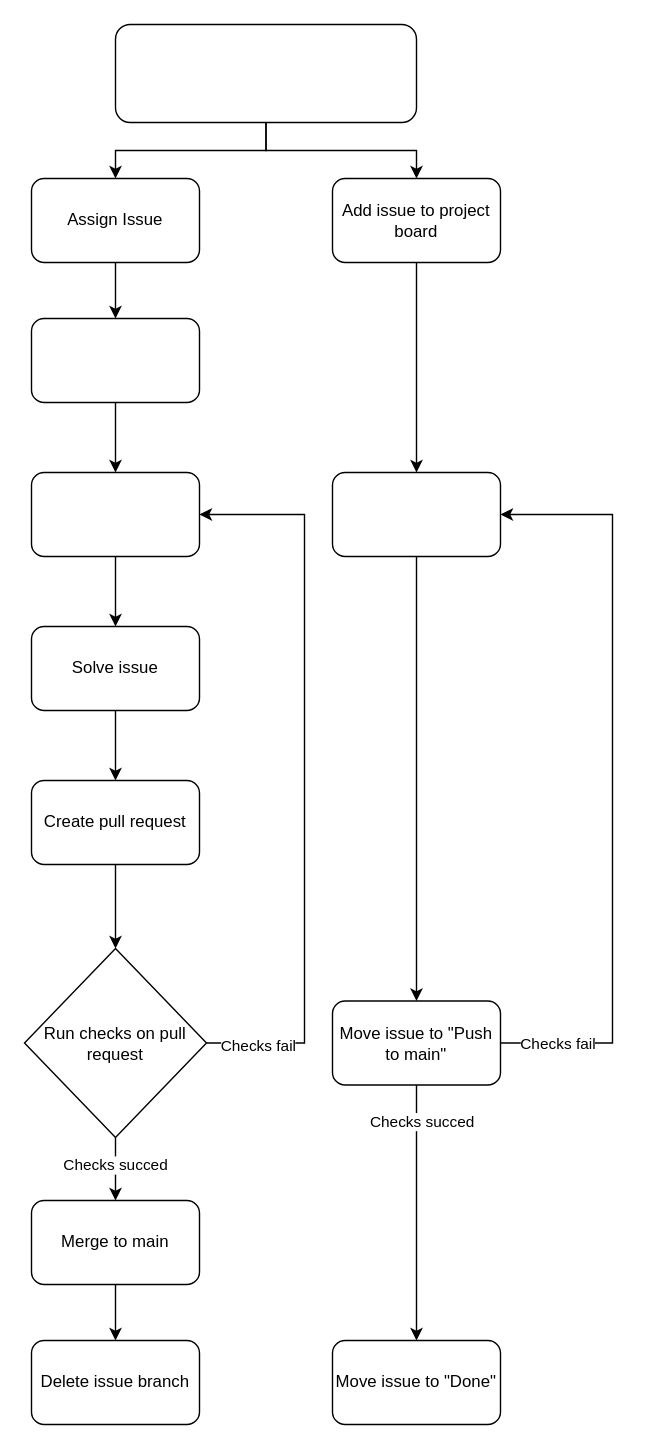
Some shapes in this 648 by 1449 pixel diagram are drawn without their labels. The shapes that lost their labels are listed below. From the top down, each one's centre as x and y in pixels, then its label:
(265,72): Create Issues based on Project work descrition from lectures
(115,359): Create branch for issue
(115,513): Work on issue
(415,513): Add issue to "In progress"
